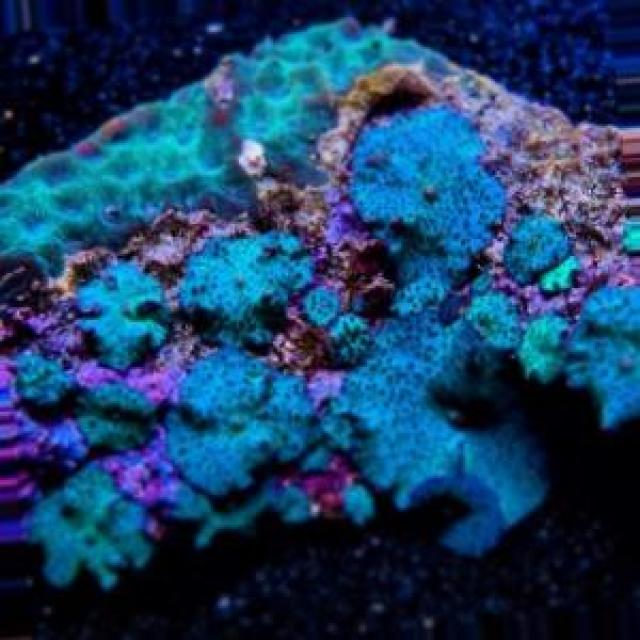healthy coral: (0, 19, 640, 588)
